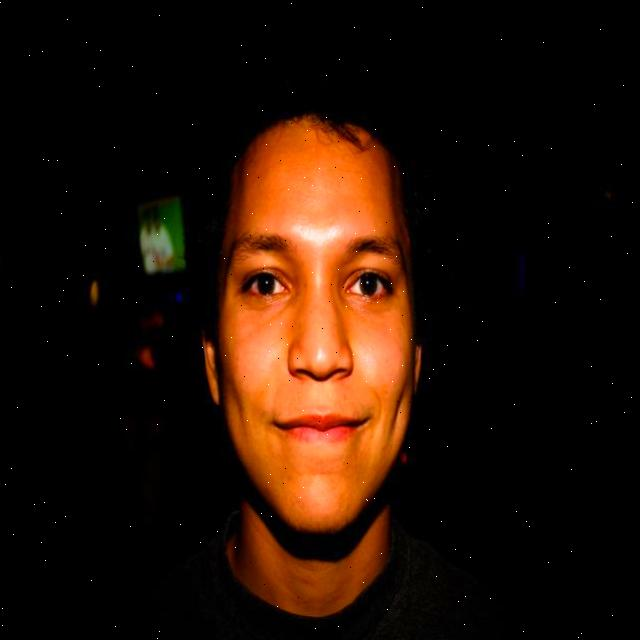puffy_eyes: (240, 291, 294, 320), (341, 294, 391, 320)
